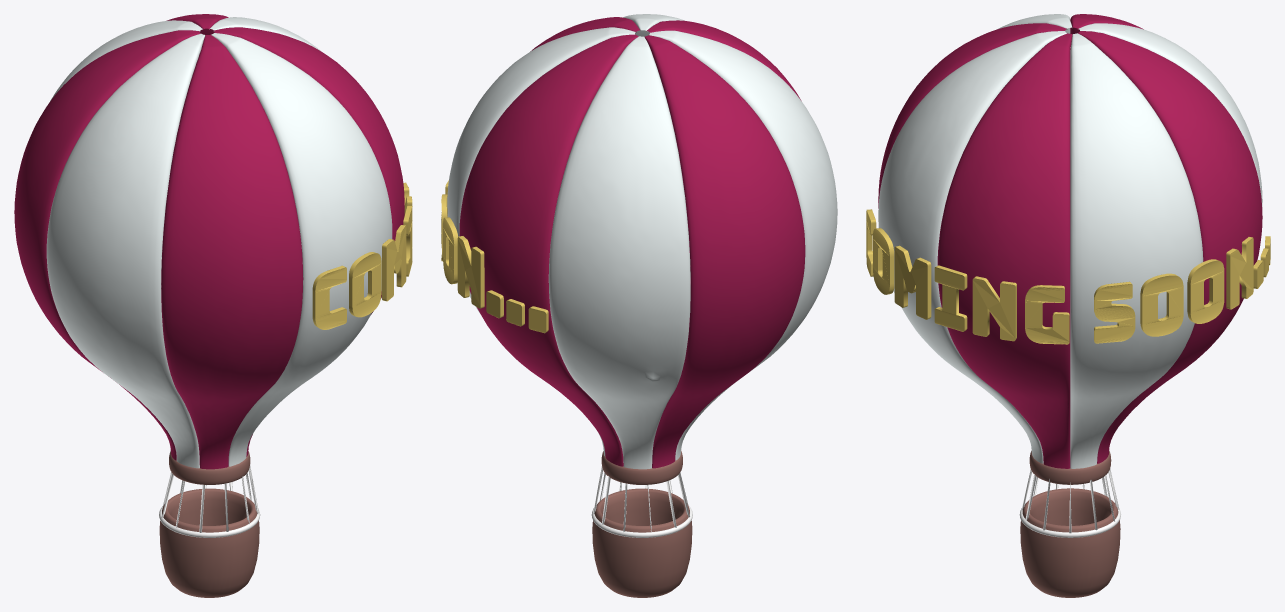
The model's file is coming-soon-balloon_draco.glb.
3 views of the same model, side by side, from view 1: azimuth 30°, elevation 25°; view 2: azimuth 150°, elevation 25°; view 3: azimuth 270°, elevation 25° (orthographic).
Visible parts, largest first — view 1: Sphere, Circle, Text, Circle.001, Cycloid, BezierCircle; view 2: Sphere, Circle, Text, Circle.001, Cycloid, BezierCircle; view 3: Sphere, Text, Circle, Circle.001, Cycloid, BezierCircle.
Part boxes in pixels (left/top/right/bottom): Sphere: left=14, top=14, right=404, bottom=469; Circle: left=159, top=488, right=259, bottom=597; Text: left=312, top=182, right=412, bottom=329; Circle.001: left=169, top=451, right=250, bottom=484; Cycloid: left=161, top=465, right=258, bottom=532; BezierCircle: left=159, top=506, right=260, bottom=537; Sphere: left=447, top=14, right=837, bottom=469; Circle: left=592, top=488, right=692, bottom=597; Text: left=441, top=180, right=548, bottom=333; Circle.001: left=601, top=451, right=682, bottom=484; Cycloid: left=593, top=466, right=689, bottom=532; BezierCircle: left=591, top=505, right=692, bottom=537; Sphere: left=878, top=14, right=1262, bottom=468; Text: left=866, top=209, right=1270, bottom=344; Circle: left=1020, top=488, right=1120, bottom=597; Circle.001: left=1029, top=450, right=1111, bottom=484; Cycloid: left=1021, top=469, right=1119, bottom=533; BezierCircle: left=1019, top=508, right=1120, bottom=537.
Bounding box in the file's own units: 4.1 × 6.38 × 4.2.
